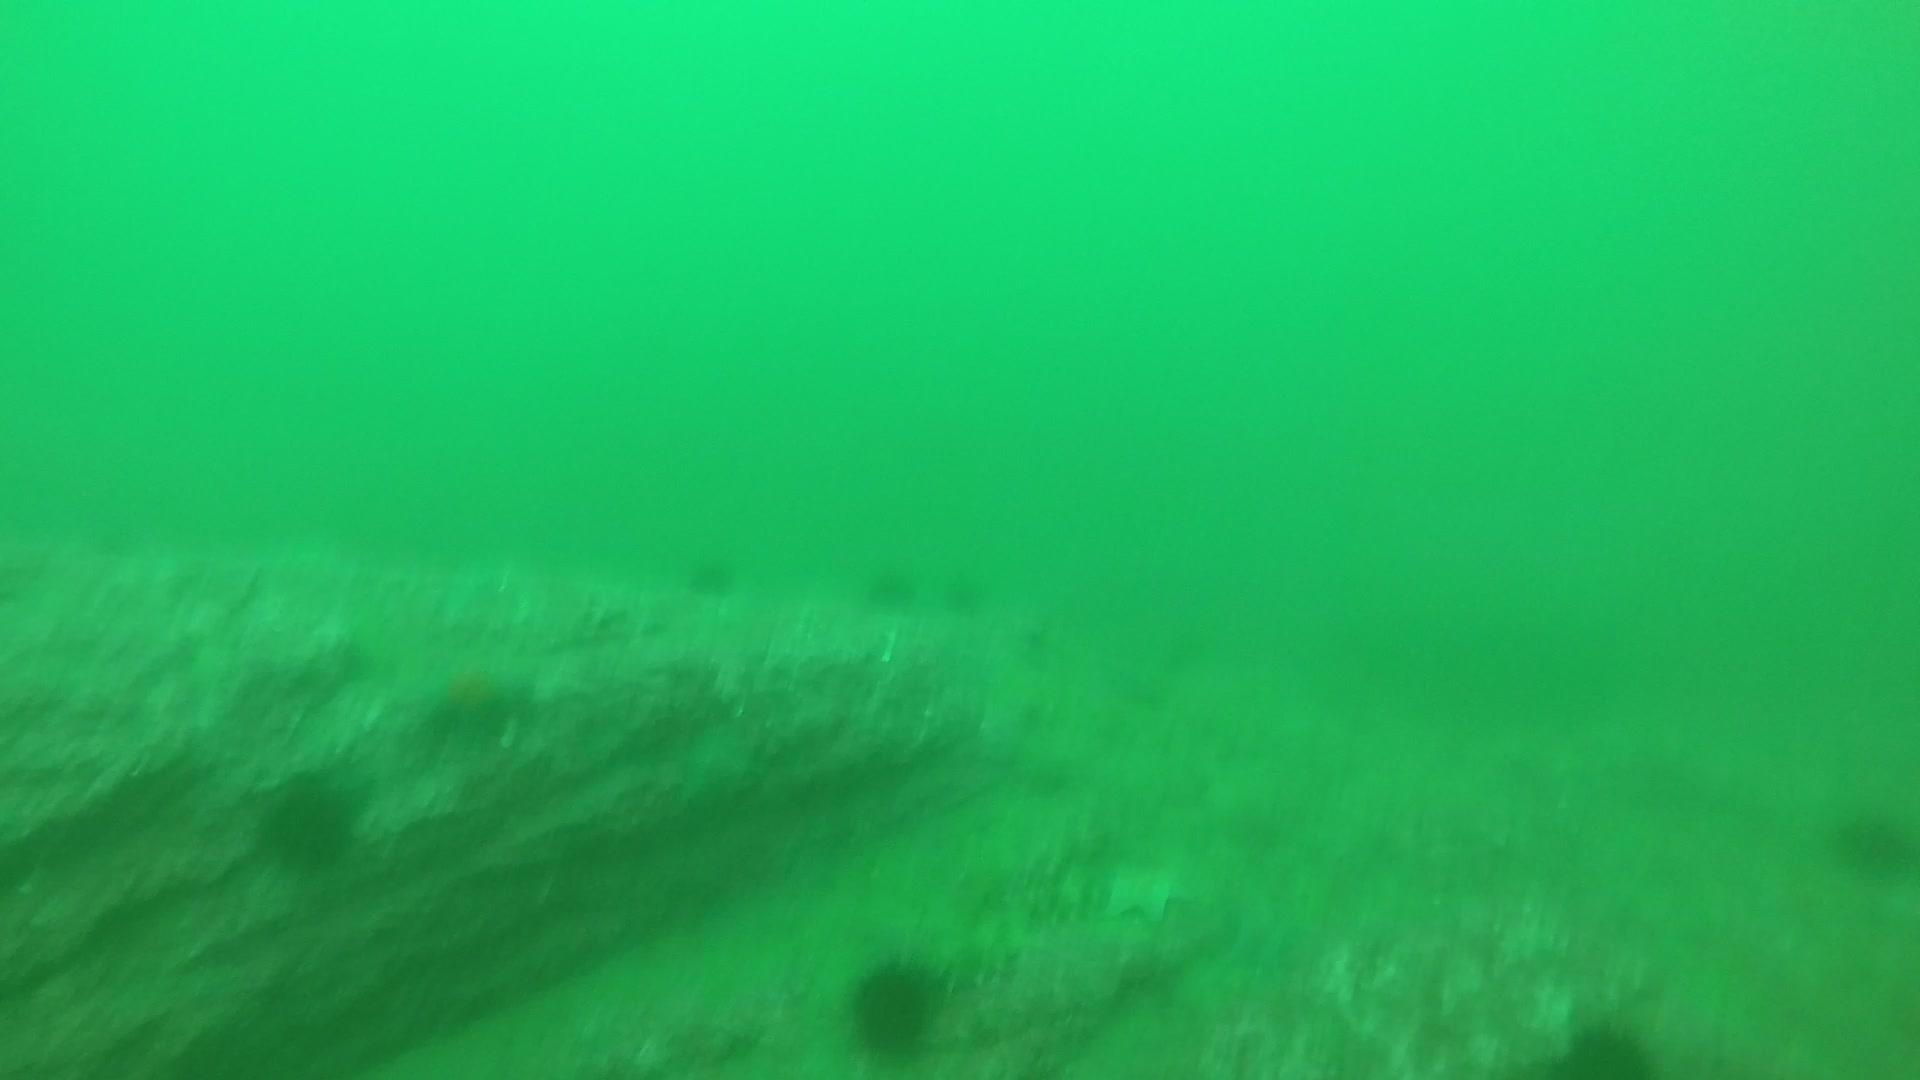echinus: (255, 765, 367, 874), (841, 951, 949, 1063), (1822, 796, 1916, 885), (1553, 1014, 1662, 1077), (858, 558, 920, 615), (935, 568, 997, 624), (1006, 618, 1068, 674), (680, 547, 741, 601)
holothurian: (887, 938, 1034, 992)
starfish: (415, 657, 534, 744), (1093, 851, 1189, 930)
